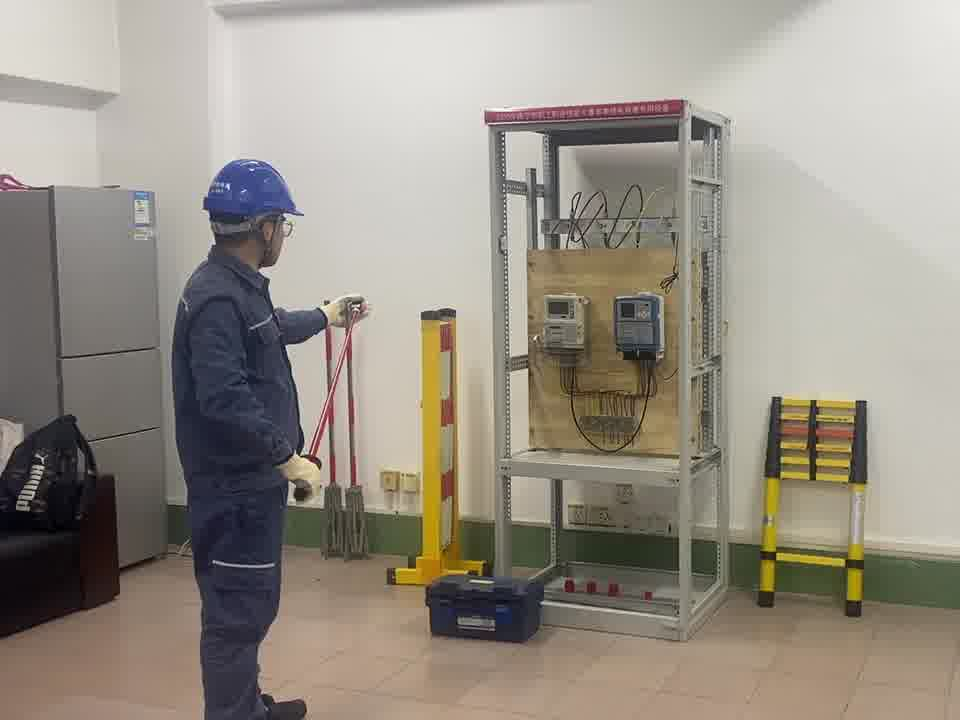downsuit: (186, 487, 294, 718)
halt: (202, 158, 303, 271)
inear: (252, 217, 283, 253)
person: (161, 155, 334, 720)
testrod: (296, 298, 368, 500)
upsuit: (169, 252, 326, 489)
wglove: (274, 450, 324, 501), (320, 292, 373, 328)
